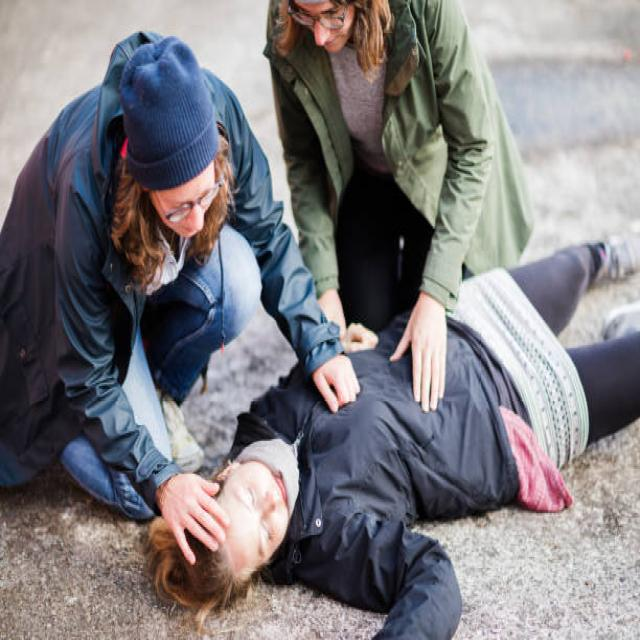unconscious people: (150, 242, 639, 638)
